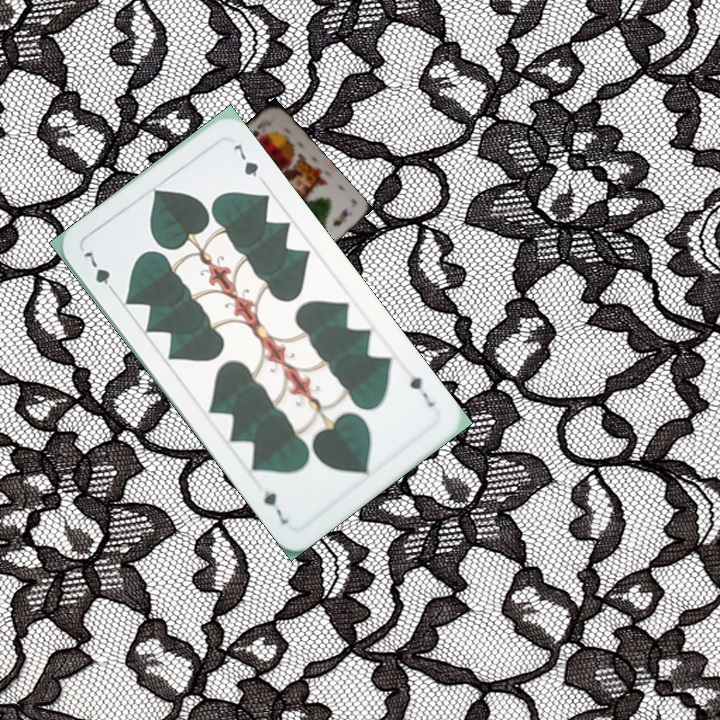G7: (78, 246, 119, 298), (405, 371, 437, 410)
SK: (248, 117, 274, 140)
